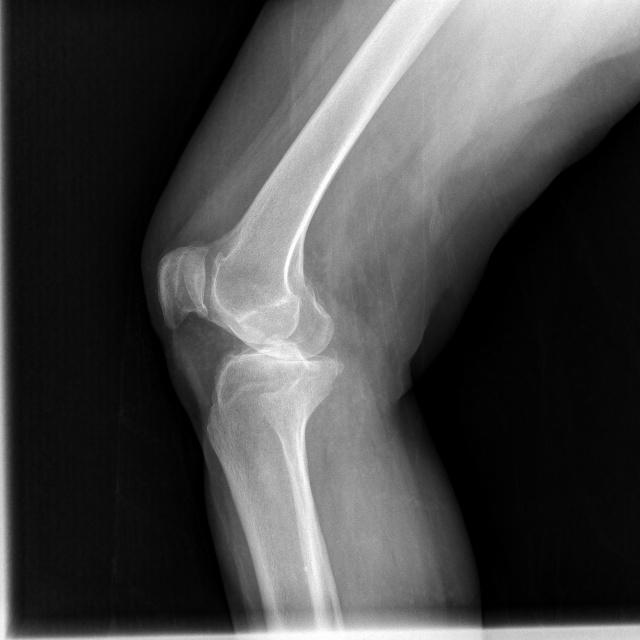Knee: (157, 240, 343, 432)
